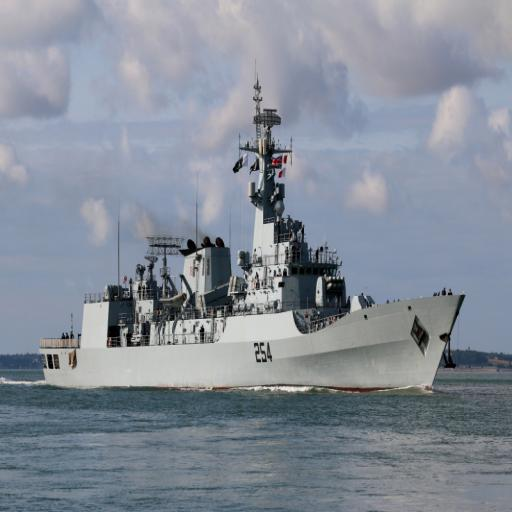Fragata: (36, 67, 469, 399)
